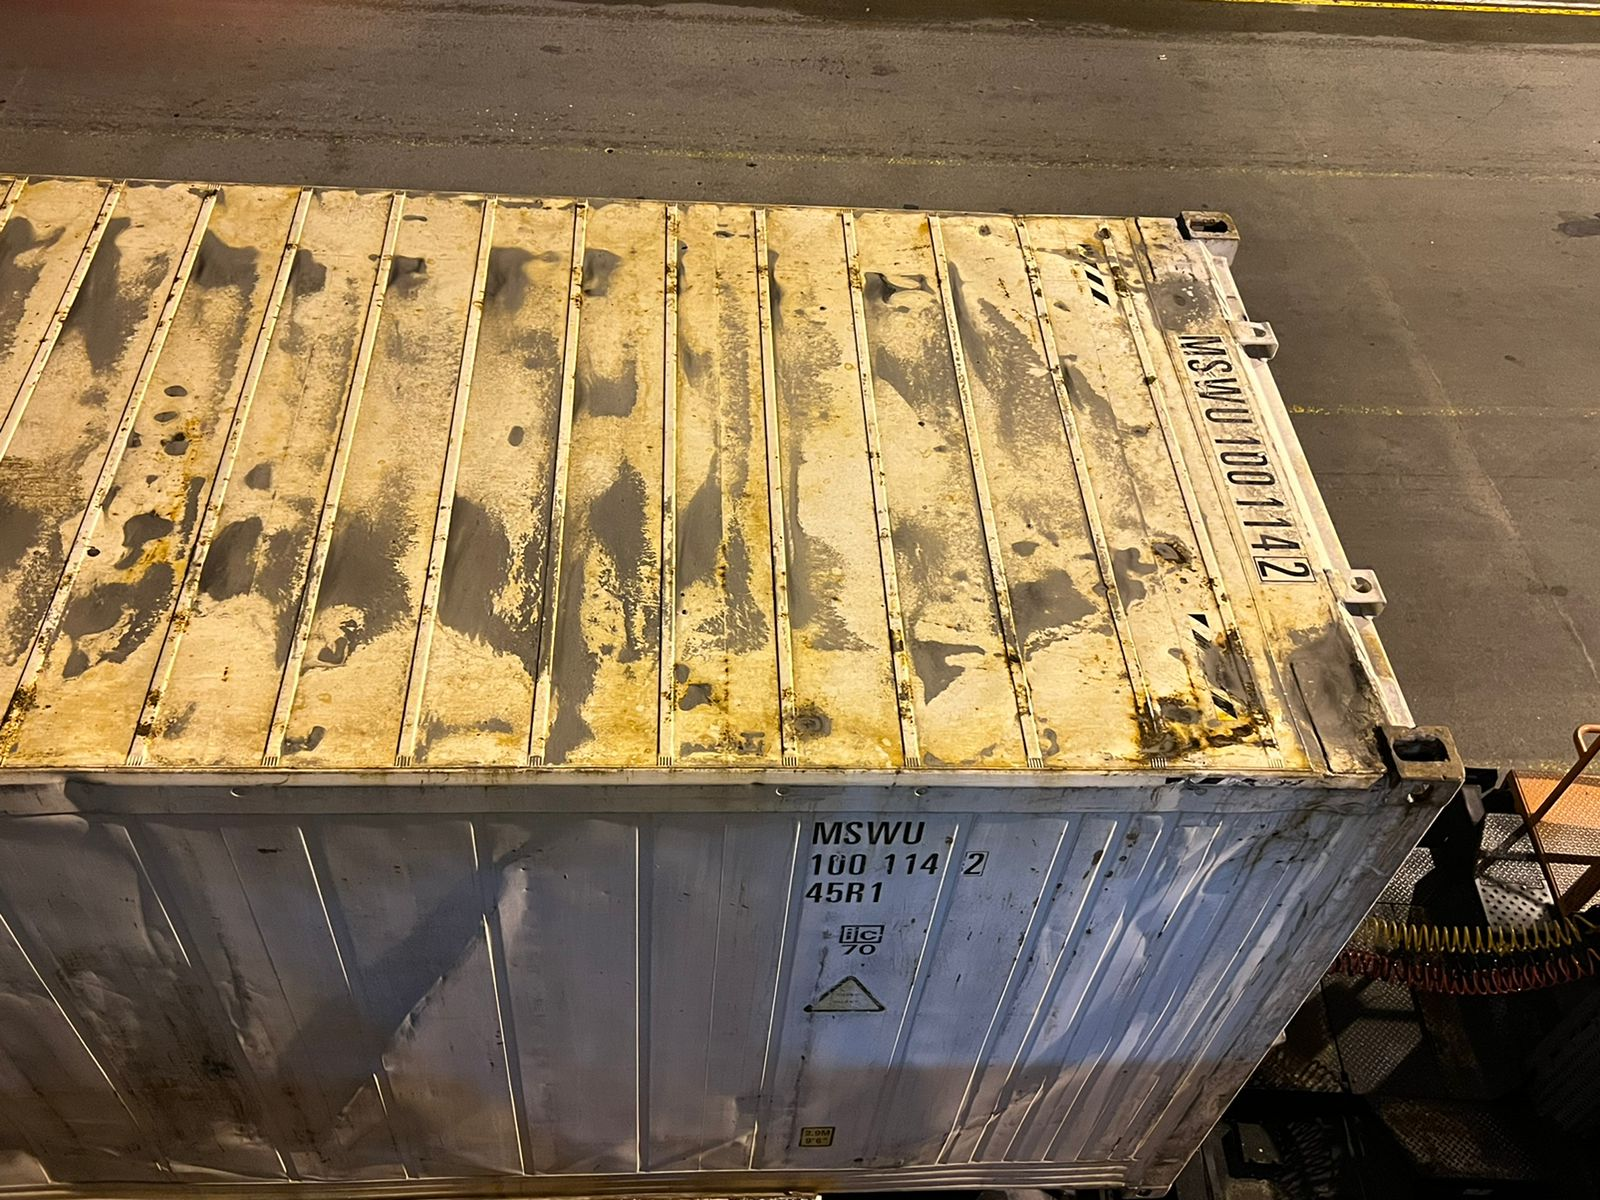rust: (1148, 628, 1269, 789), (1076, 239, 1175, 318)
